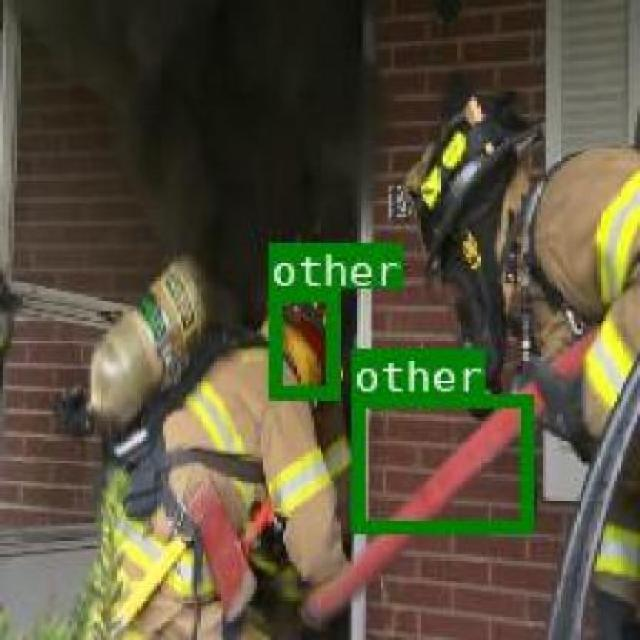Smoke: (10, 2, 367, 276)
